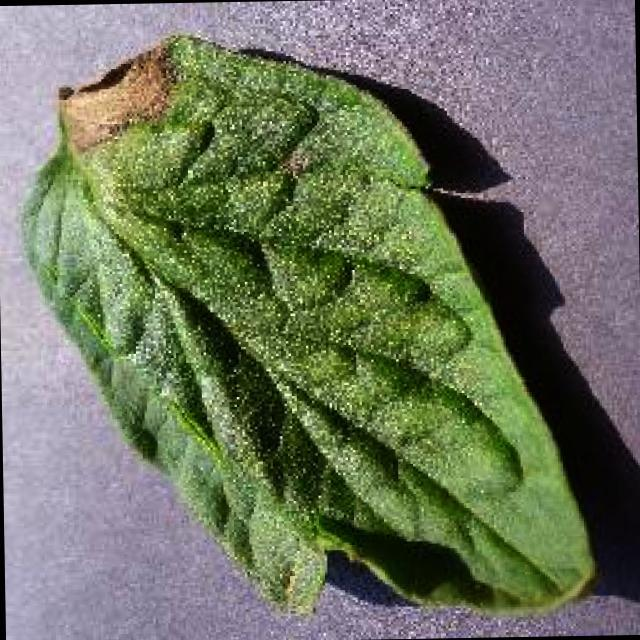Tomato late blight leaf: (10, 22, 595, 624)
